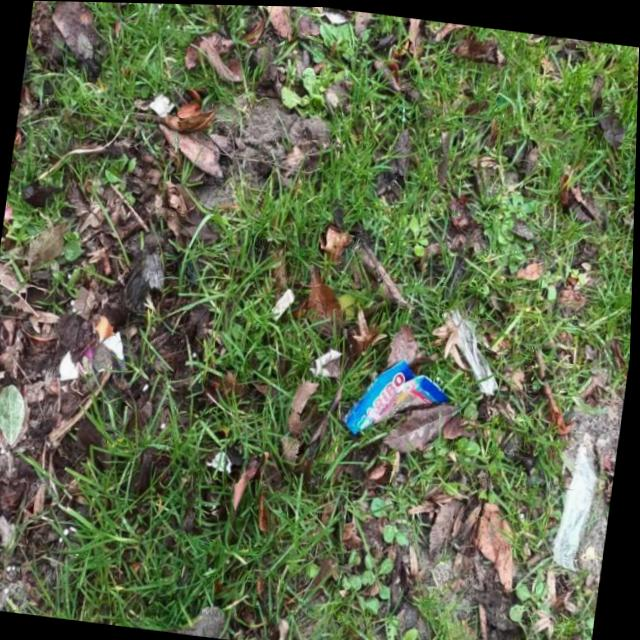Plastic: (340, 349, 460, 444)
